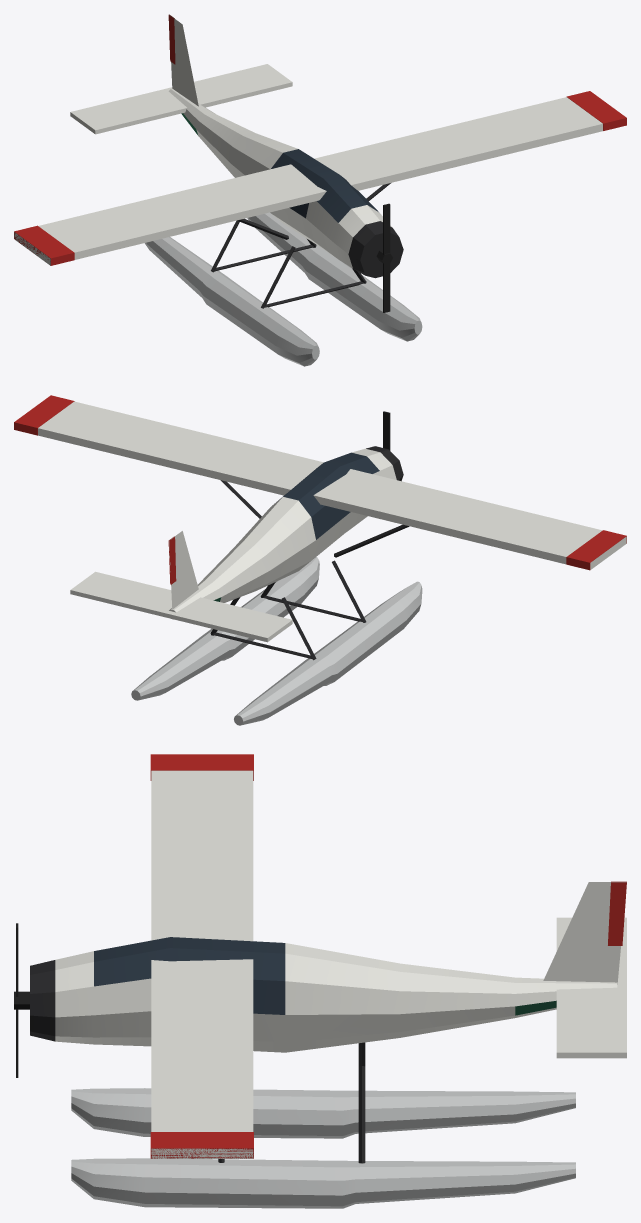
The model's file is seattle_floatplane.glb.
3 views of the same model, one above another, from view 1: azimuth 30°, elevation 25°; view 2: azimuth 150°, elevation 25°; view 3: azimuth 270°, elevation 25° (orthographic). The views are drawn at different scales.
Visible parts, largest first — view 1: seattle_floatplane; view 2: seattle_floatplane; view 3: seattle_floatplane.
Boxes of the visible parts, box(x1,y1,x2,y2) form: seattle_floatplane: box(14, 14, 626, 366); seattle_floatplane: box(14, 395, 626, 725); seattle_floatplane: box(14, 754, 626, 1208).
Bounding box in the file's own units: 14.6 × 4.98 × 9.6.
1 material, 1 textured.
